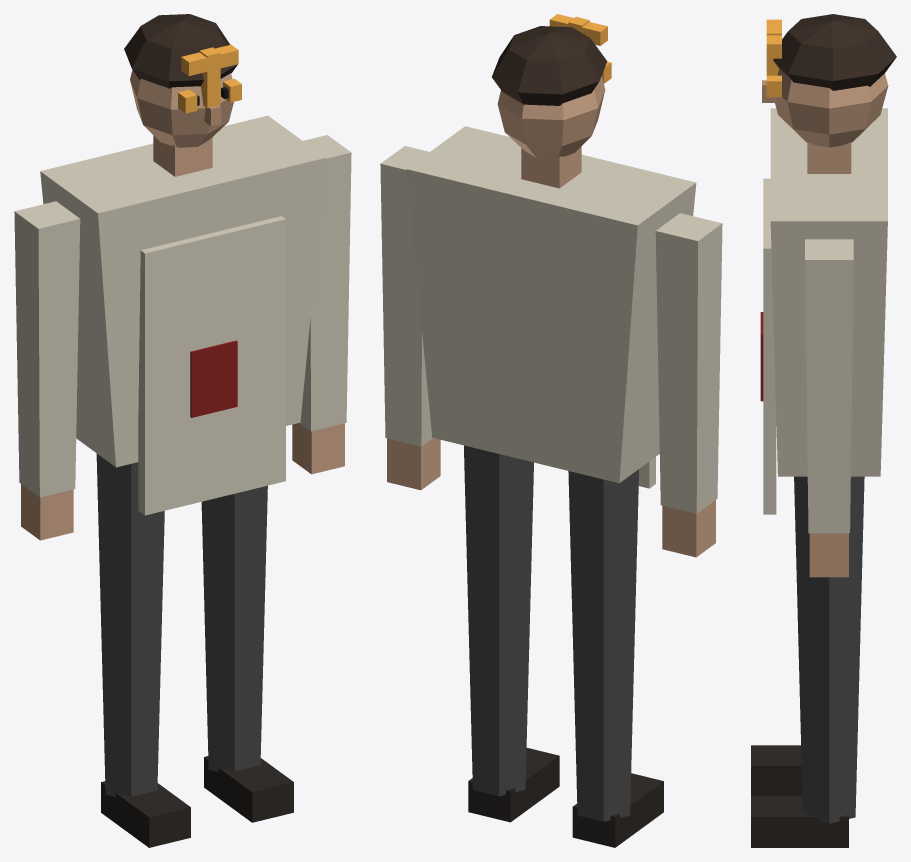
File: macellaio.obj
3 renders of one model, left to right at view 1: azimuth 30°, elevation 25°; view 2: azimuth 150°, elevation 25°; view 3: azimuth 270°, elevation 25°, orthographic.
Visible parts, largest first — view 1: parte_02, parte_00, parte_04, parte_01, parte_05, parte_03, marchio_08; view 2: parte_02, parte_00, parte_04, parte_05, parte_01, marchio_08; view 3: parte_02, parte_00, parte_04, parte_05, parte_01, marchio_08, parte_03.
Part boxes in pixels (x1,y1,x2,y2): parte_02: (14,115,351,515); parte_00: (96,453,267,796); parte_04: (21,70,344,540); parte_01: (101,756,293,847); parte_05: (124,14,237,88); parte_03: (190,340,237,417); marchio_08: (178,44,241,113); parte_02: (380,126,722,513); parte_00: (464,445,638,821); parte_04: (387,76,715,557); parte_05: (492,26,607,105); parte_01: (468,748,663,847); marchio_08: (549,14,611,83); parte_02: (763,108,887,533); parte_00: (794,476,864,823); parte_04: (775,69,888,577); parte_05: (773,14,896,90); parte_01: (751,745,848,847); marchio_08: (766,19,781,97); parte_03: (760,312,763,401).
Bounding box in the file's own units: 0.7372 × 1.75 × 0.2933.
